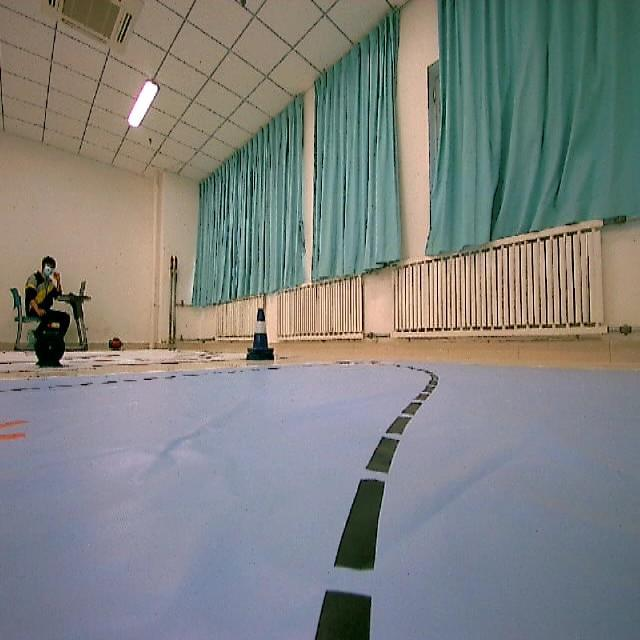obstacle: (246, 309, 278, 371)
